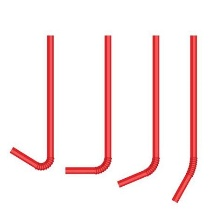drinking_straw: (61, 31, 116, 179), (113, 32, 163, 192), (7, 32, 57, 177), (168, 32, 204, 207)
